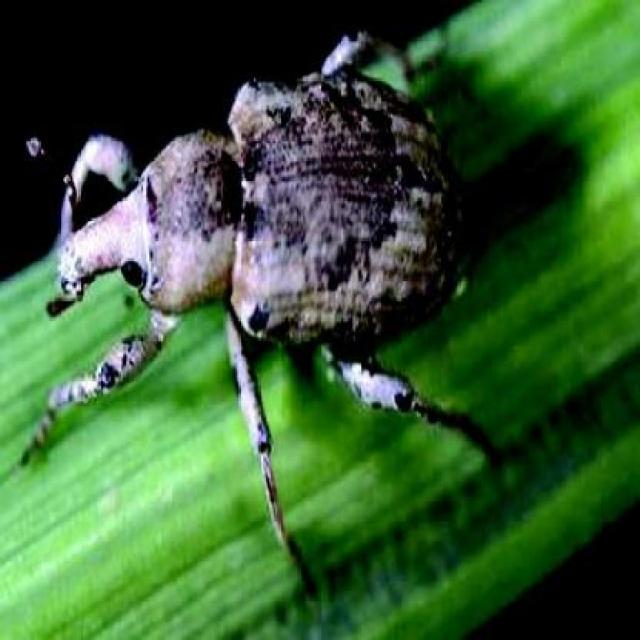rice-bug: (48, 28, 472, 460)
